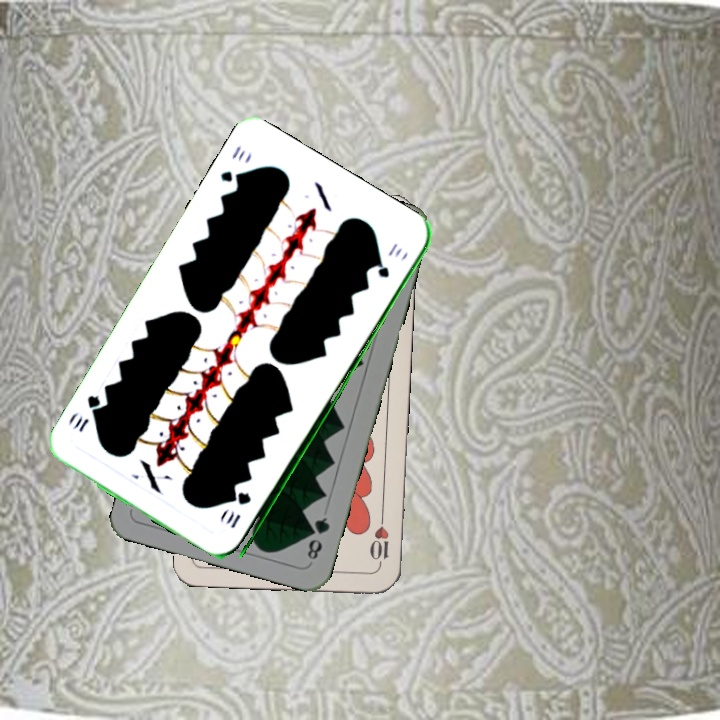G10: (216, 141, 248, 189), (222, 488, 254, 531)
G8: (303, 513, 333, 563)
H10: (367, 510, 392, 569)
